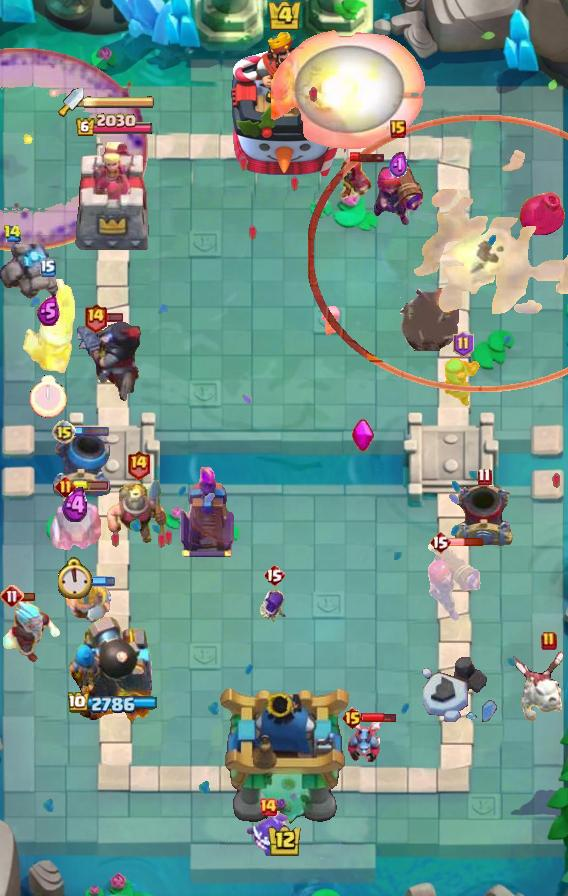baby-dragon: (400, 289, 459, 351), (516, 187, 568, 241)
bandit: (105, 478, 171, 546)
bar: (73, 140, 155, 256)
bowler: (337, 154, 373, 202)
electro-spirit: (62, 487, 90, 525), (36, 296, 59, 326), (388, 152, 407, 181)
elixir: (29, 374, 67, 417), (58, 557, 94, 599)
emote: (361, 711, 397, 724), (350, 151, 386, 163), (74, 427, 110, 438), (80, 577, 116, 588), (73, 481, 109, 491), (449, 537, 484, 547), (16, 591, 36, 602), (104, 313, 123, 324)
firecracker: (20, 279, 76, 376)
goblin: (258, 589, 290, 627)
goblin-giant: (64, 581, 112, 623)
heal-spirit: (318, 303, 346, 335)
ice-spirit-evolution-symbol: (177, 467, 237, 559)
inferno-dragon: (74, 317, 150, 403)
king-tower: (216, 684, 352, 826), (222, 31, 346, 181)
king-tower-bar: (84, 95, 156, 109)
mega-minion: (424, 538, 484, 624), (371, 141, 425, 229)
mini-pekka: (510, 647, 568, 725)
mortar: (0, 598, 62, 664)
mortar-evolution: (48, 489, 104, 555)
musketeer: (453, 482, 515, 550), (51, 433, 111, 497)
rocket: (0, 47, 148, 251)
royal-delivery: (346, 714, 384, 764)
royal-ghost: (308, 115, 568, 392)
selected: (68, 692, 160, 715), (74, 113, 154, 139)
skeleton-king-skill: (351, 418, 375, 452)
spear-goblin: (244, 809, 292, 857)
text: (83, 303, 108, 334), (126, 448, 151, 479), (52, 420, 76, 444), (0, 584, 24, 608), (340, 706, 363, 730), (453, 331, 474, 357), (429, 530, 451, 554), (263, 563, 285, 587), (55, 476, 76, 497), (258, 797, 278, 817), (3, 225, 22, 244), (541, 631, 557, 651), (390, 120, 406, 138), (40, 259, 56, 277), (477, 467, 492, 485)
tower-bar: (64, 615, 164, 731)
valkyrie: (271, 30, 427, 150)
valkyrie-evolution: (0, 243, 66, 305)
witch: (442, 356, 484, 408)
